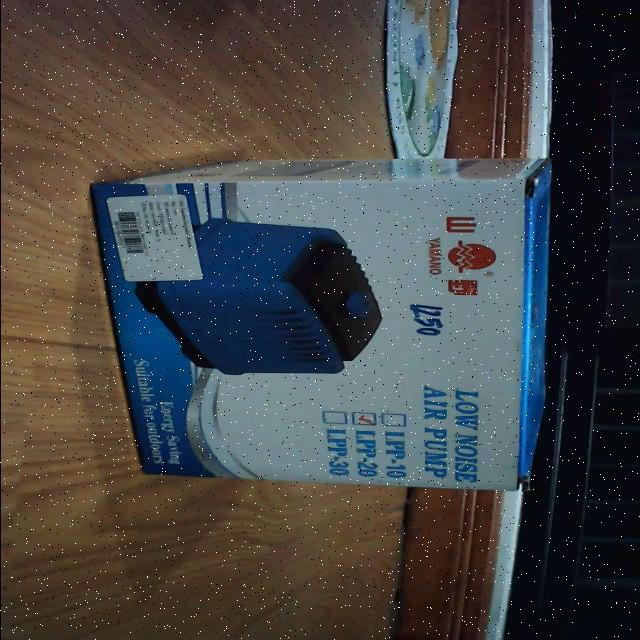YAMANO_LPP_20: (82, 145, 574, 497)
